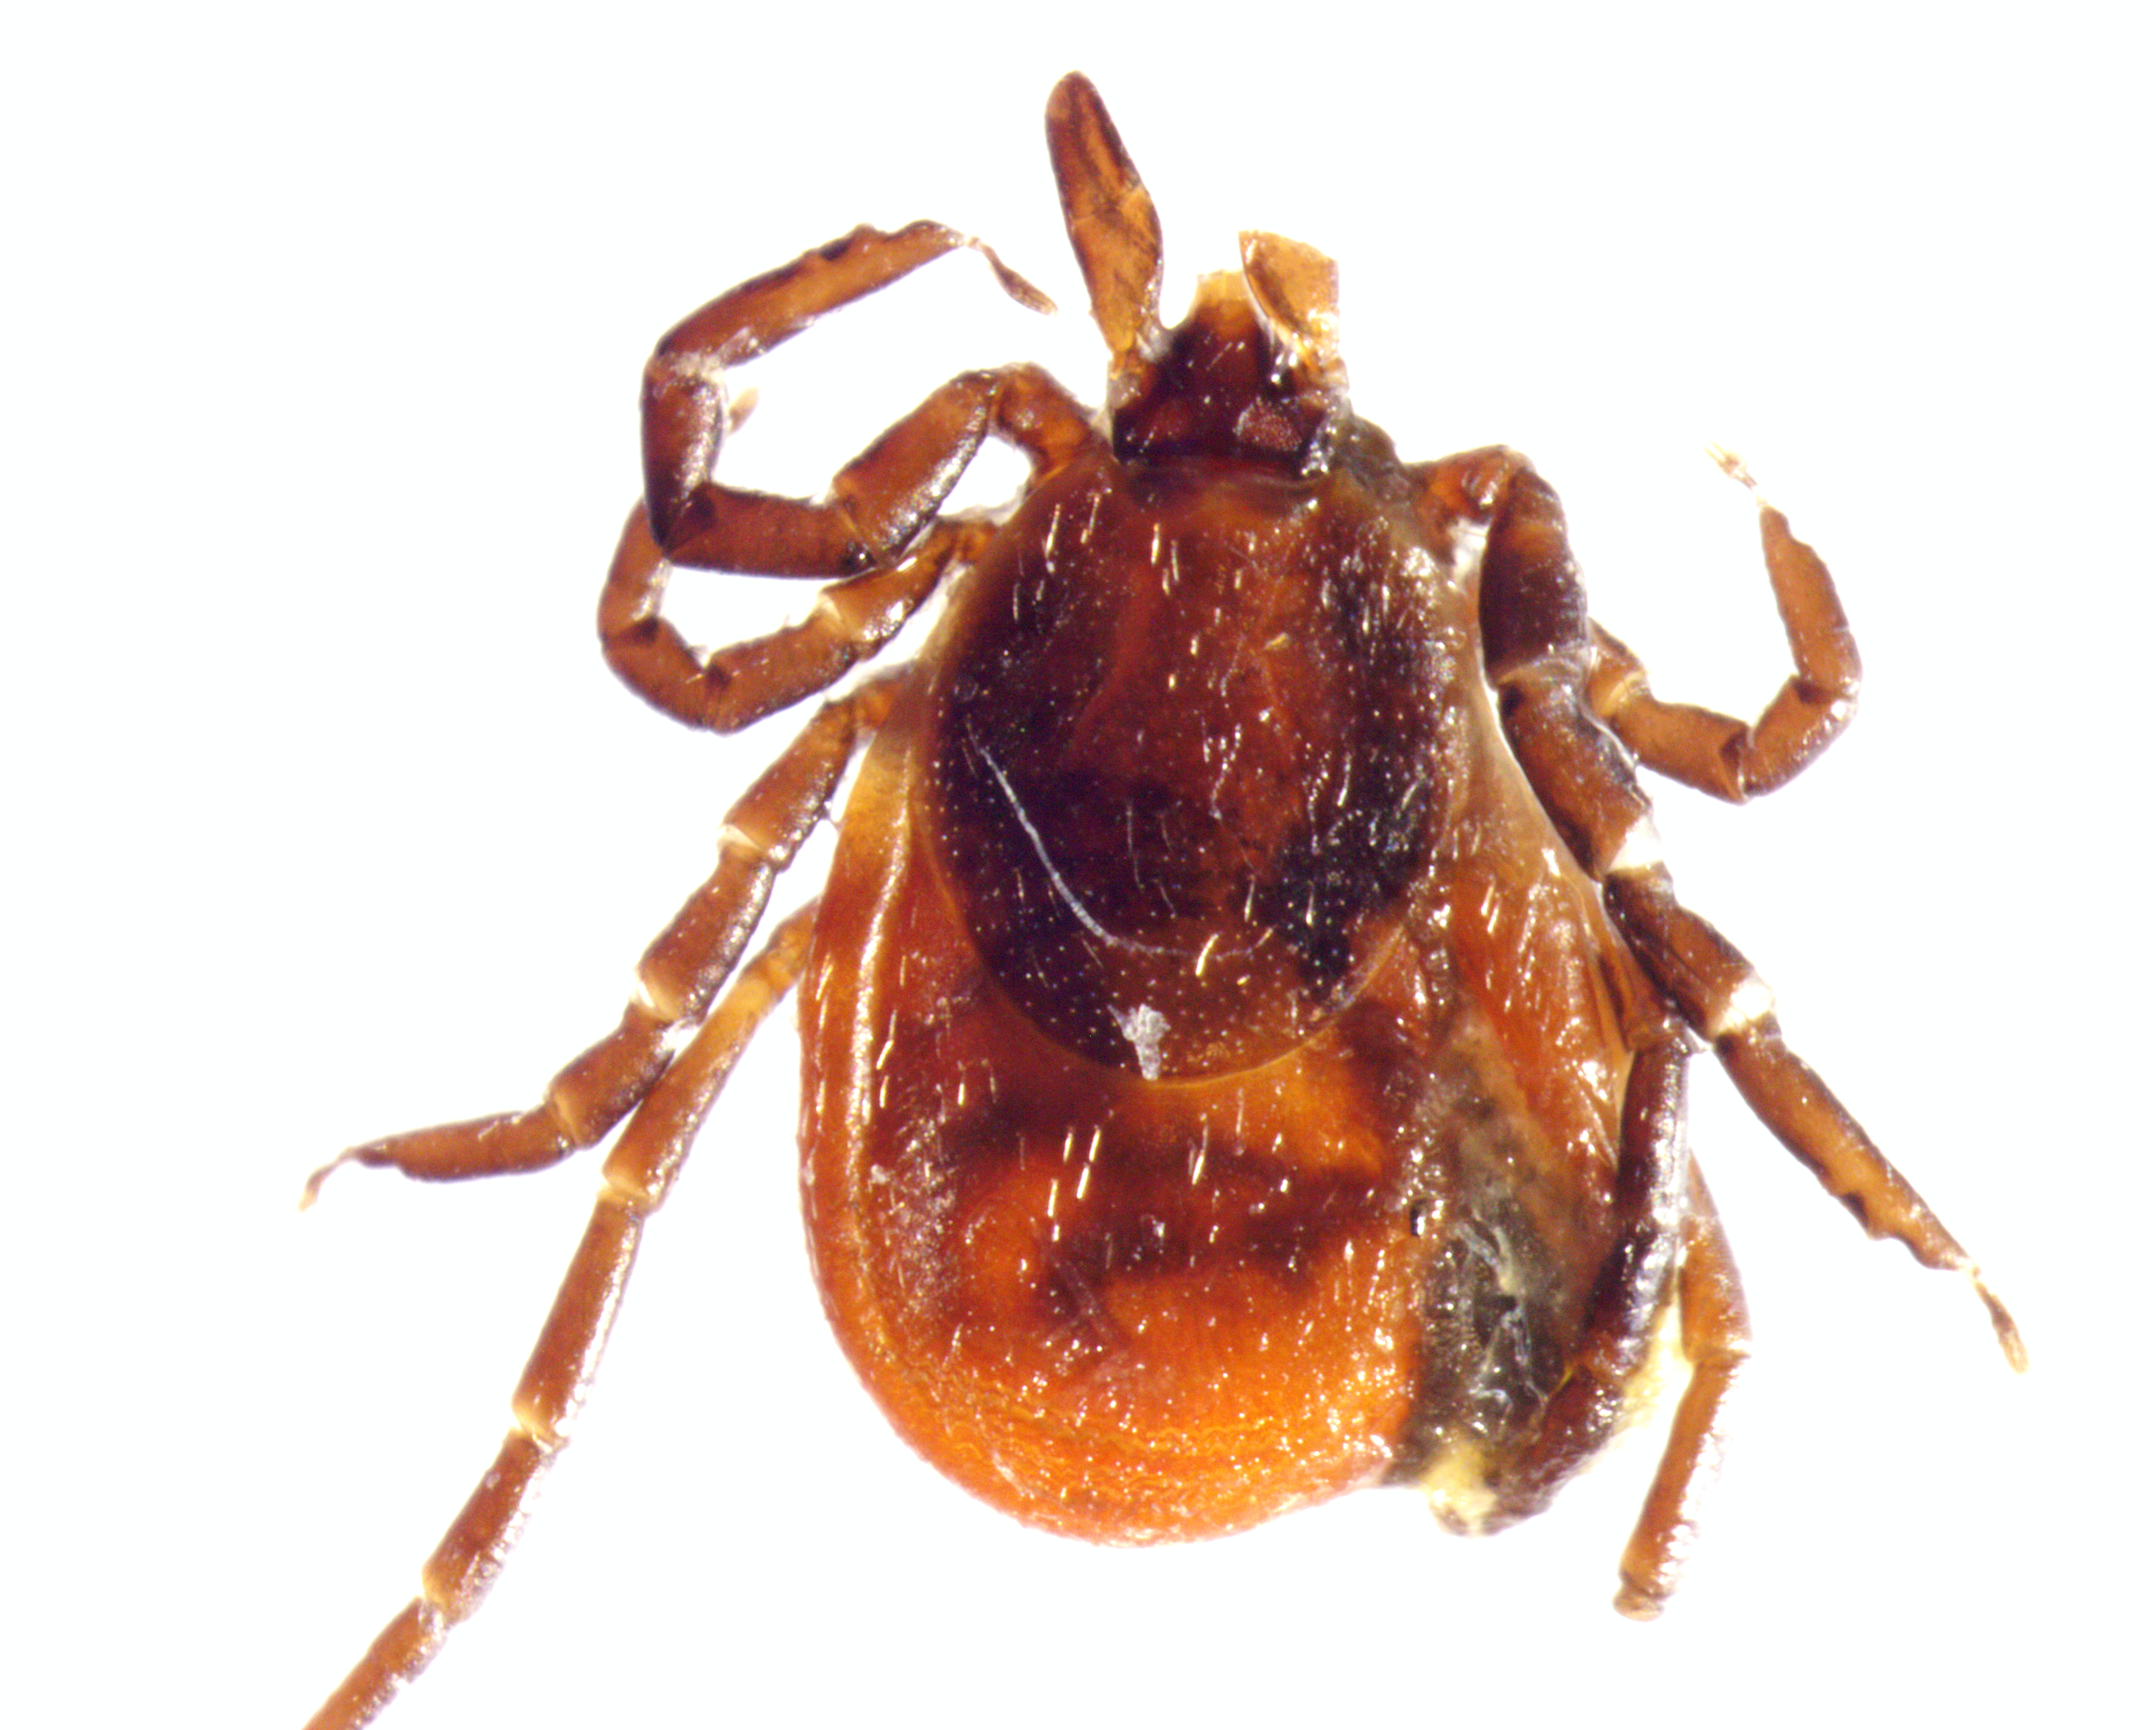unlabelled_tick: (259, 72, 2073, 1726), (259, 72, 2047, 1726), (277, 72, 2073, 1694), (363, 334, 2073, 1694)
